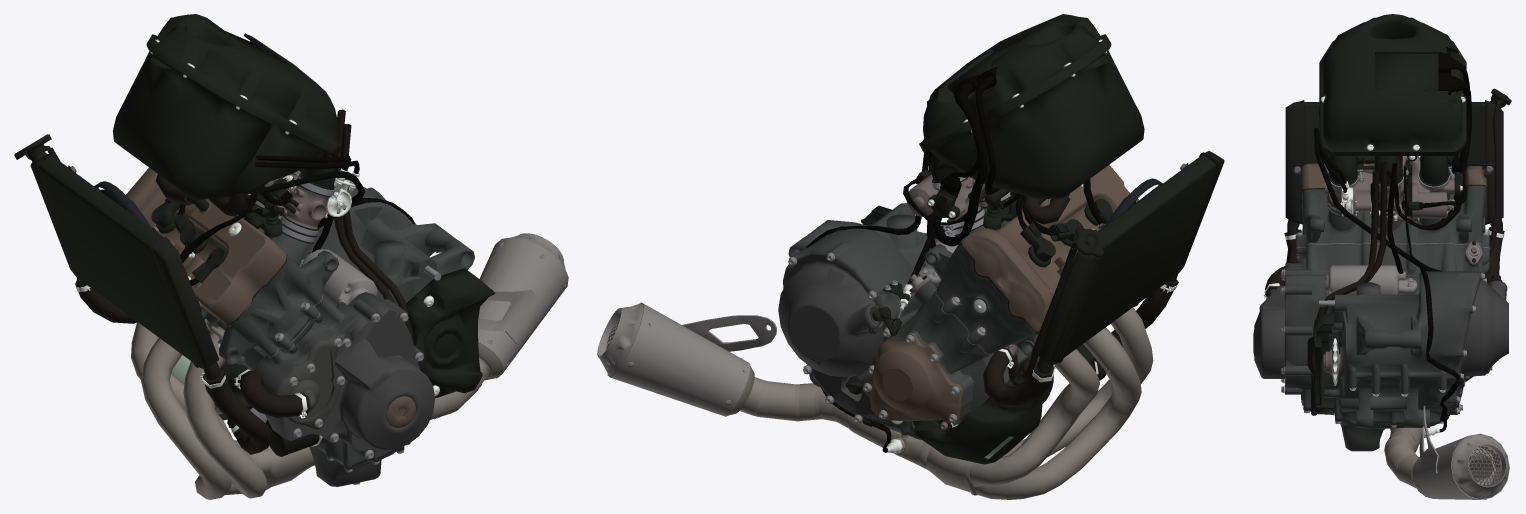
File: eng-m-triple-765.glb
3 views of the same model, side by side, from view 1: azimuth 30°, elevation 25°; view 2: azimuth 150°, elevation 25°; view 3: azimuth 270°, elevation 25° (orthographic). The views are drawn at different scales.
Parts seen in each view (by area): view 1: airbox_Black Plastic_0, crank case_Engine Gray Rough_0, clutch cover_Engine Gray Smooth_0; view 2: airbox_Black Plastic_0, crank case_Engine Gray Rough_0, clutch cover_Engine Gray Smooth_0; view 3: airbox_Black Plastic_0, crank case_Engine Gray Rough_0, clutch cover_Engine Gray Smooth_0.
Boxes of the visible parts, x1,y1,x2,y2 form: airbox_Black Plastic_0: (14, 14, 568, 486); crank case_Engine Gray Rough_0: (121, 167, 502, 499); clutch cover_Engine Gray Smooth_0: (25, 144, 434, 459); airbox_Black Plastic_0: (597, 14, 1188, 464); crank case_Engine Gray Rough_0: (728, 165, 1153, 499); clutch cover_Engine Gray Smooth_0: (778, 151, 1224, 422); airbox_Black Plastic_0: (1253, 14, 1511, 499); crank case_Engine Gray Rough_0: (1268, 163, 1489, 488); clutch cover_Engine Gray Smooth_0: (1254, 94, 1508, 414).
Bounding box in the file's own units: 0.9062 × 0.7943 × 0.4809.
3 materials, 3 textured.
